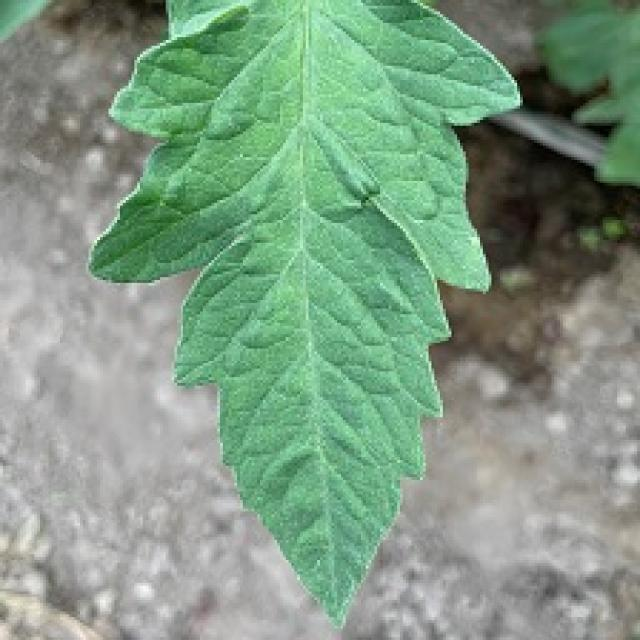Healthy: (51, 0, 527, 637)
